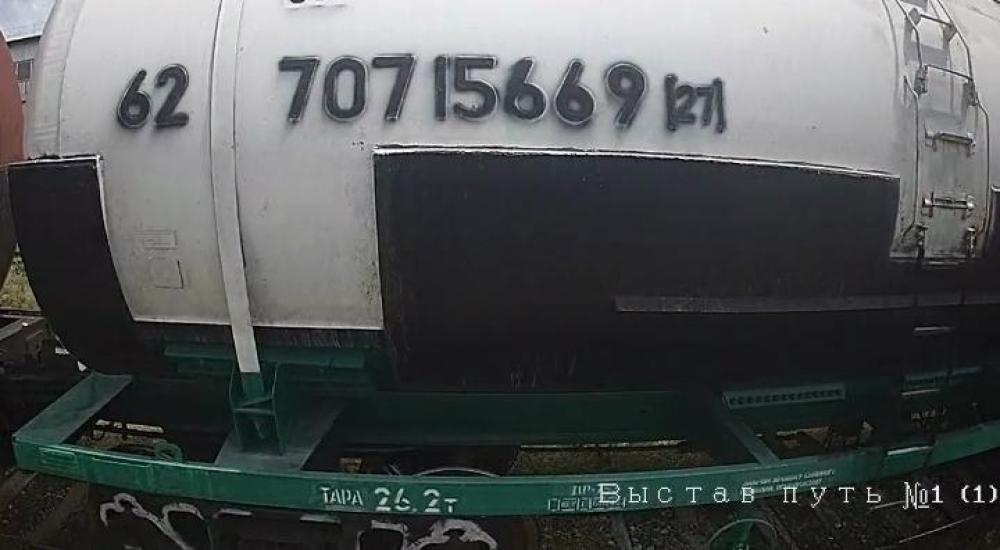Wagon-number: (277, 48, 649, 140)
